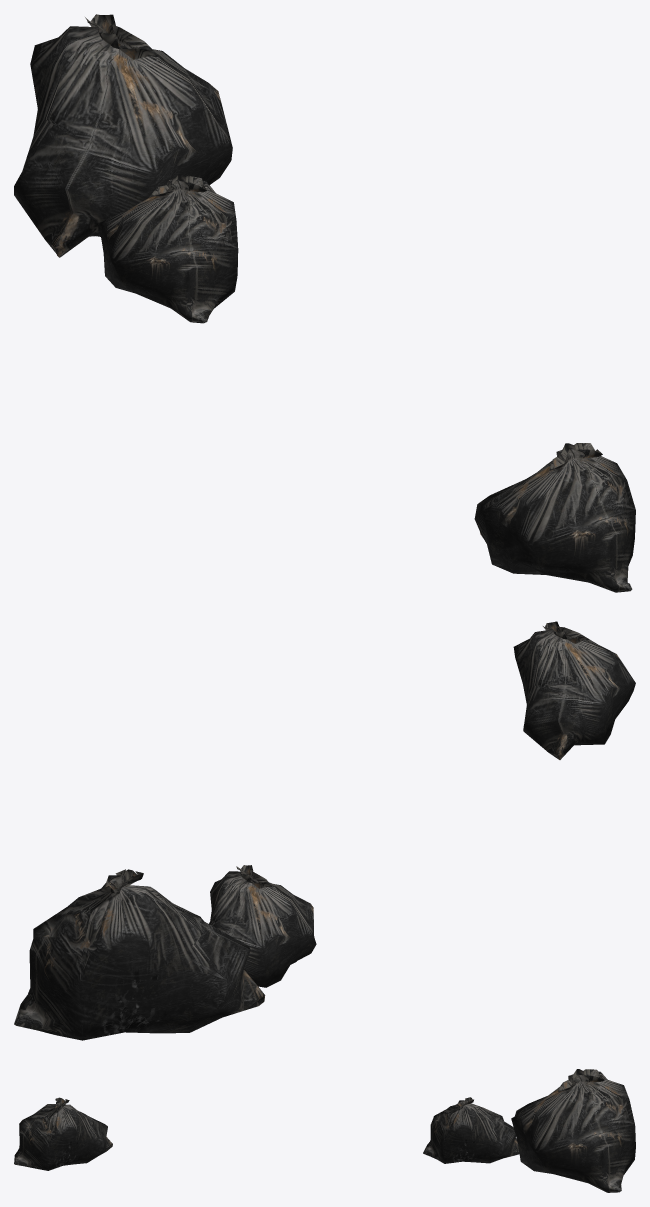
The model's file is poubelles.glb.
The picture shows the model from 3 angles, top to bottom: view 1: azimuth 30°, elevation 25°; view 2: azimuth 150°, elevation 25°; view 3: azimuth 270°, elevation 25°; orthographic projection. The views are drawn at different scales.
Visible parts, largest first — view 1: poubelles; view 2: poubelles; view 3: poubelles.
Boxes of the visible parts, left/top/right/bottom form: poubelles: left=14, top=14, right=635, bottom=592; poubelles: left=14, top=621, right=635, bottom=1040; poubelles: left=14, top=1069, right=635, bottom=1192.
Size of the model in its own units: 0.8657 by 0.7041 by 4.08.
Materials: 1 (1 with a texture image).
